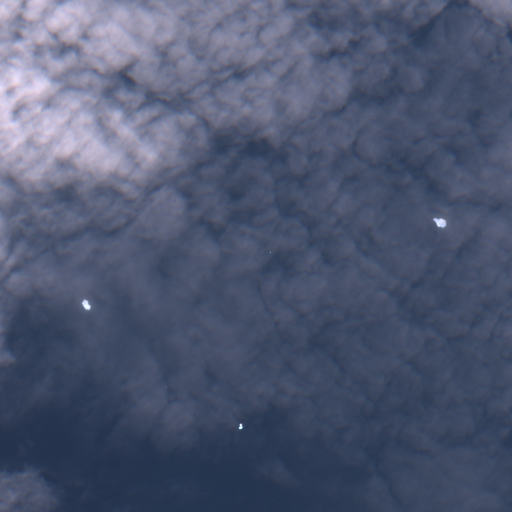Iceberg: (433, 218, 446, 227), (81, 299, 90, 309), (238, 423, 242, 429), (269, 251, 270, 253)
